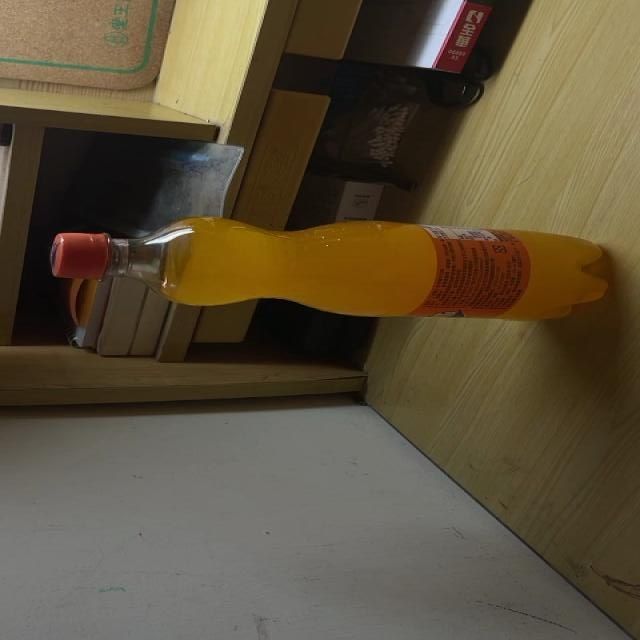Fanta: (46, 220, 612, 319)
